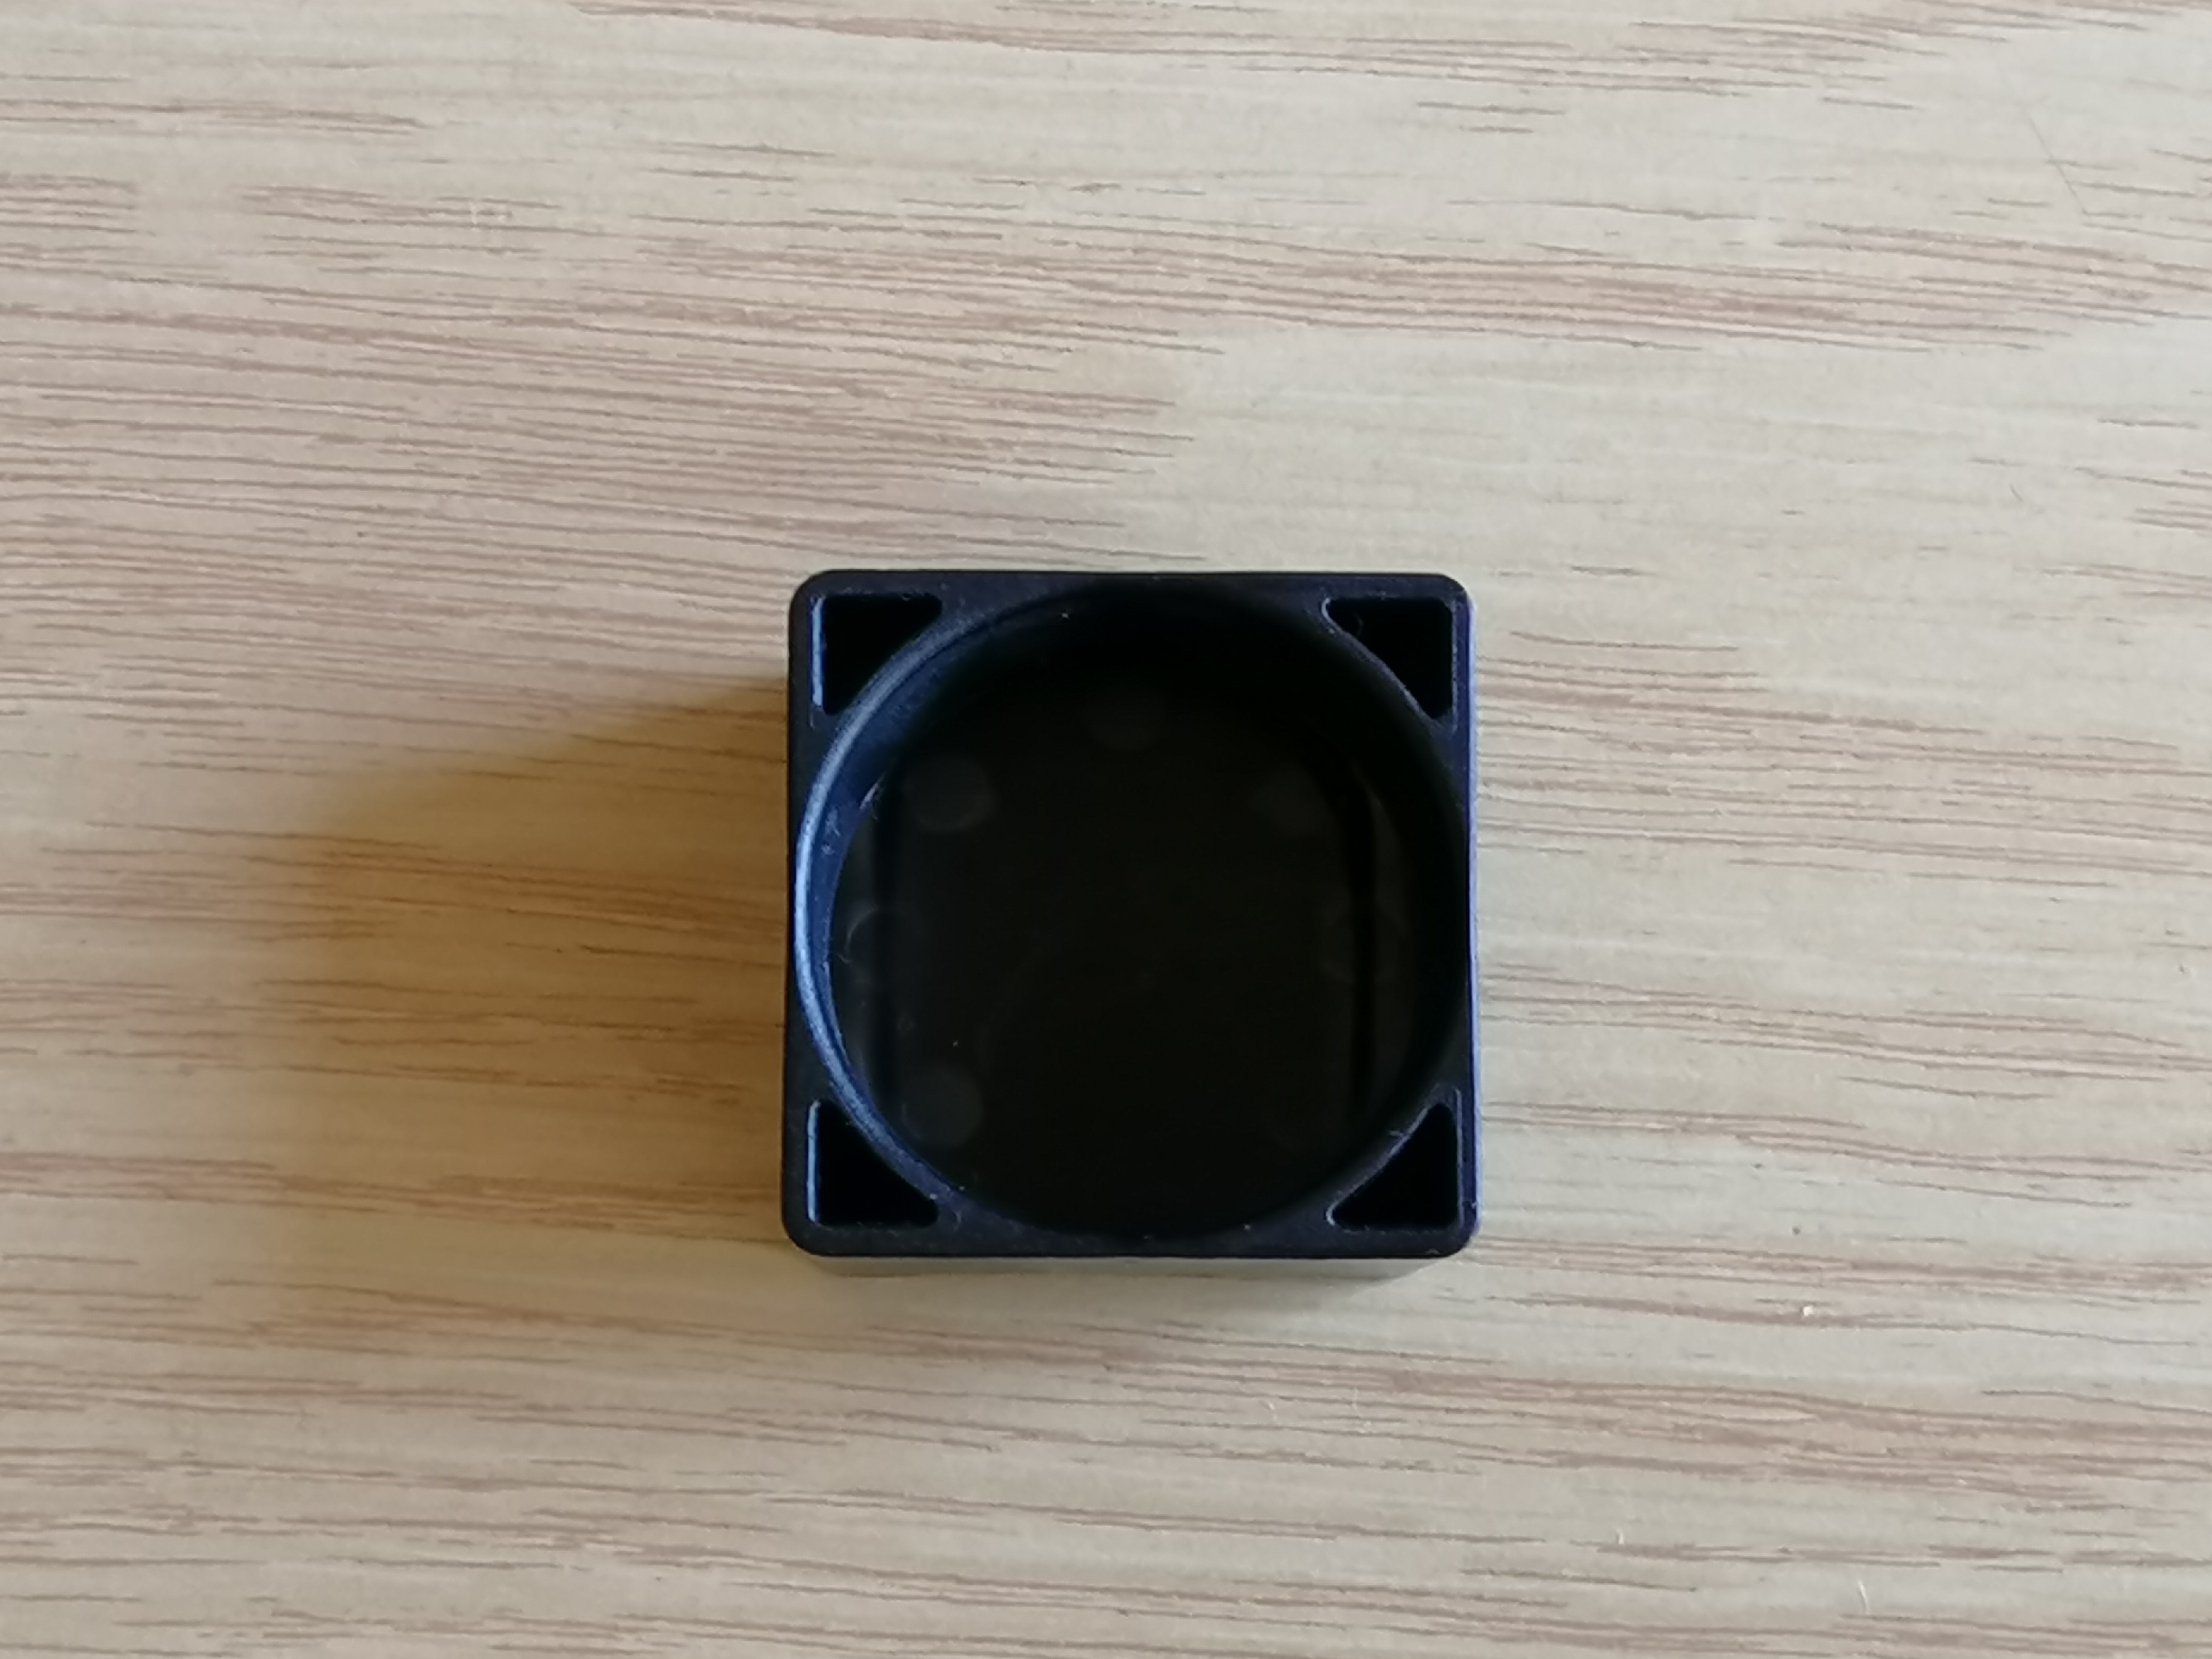Behaelter: (782, 575, 1482, 1260)
